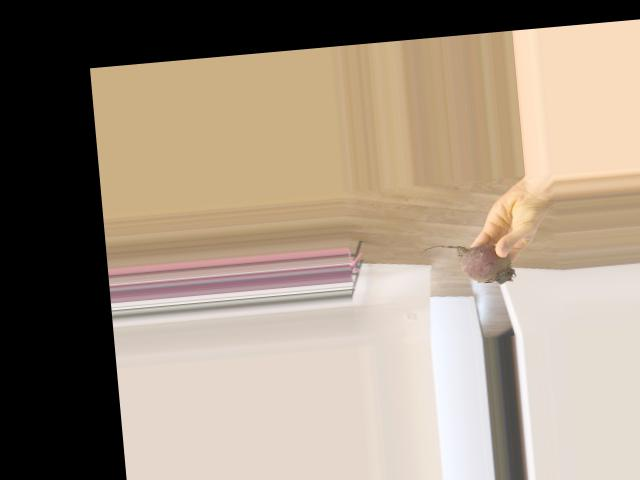beet: (419, 239, 515, 290)
